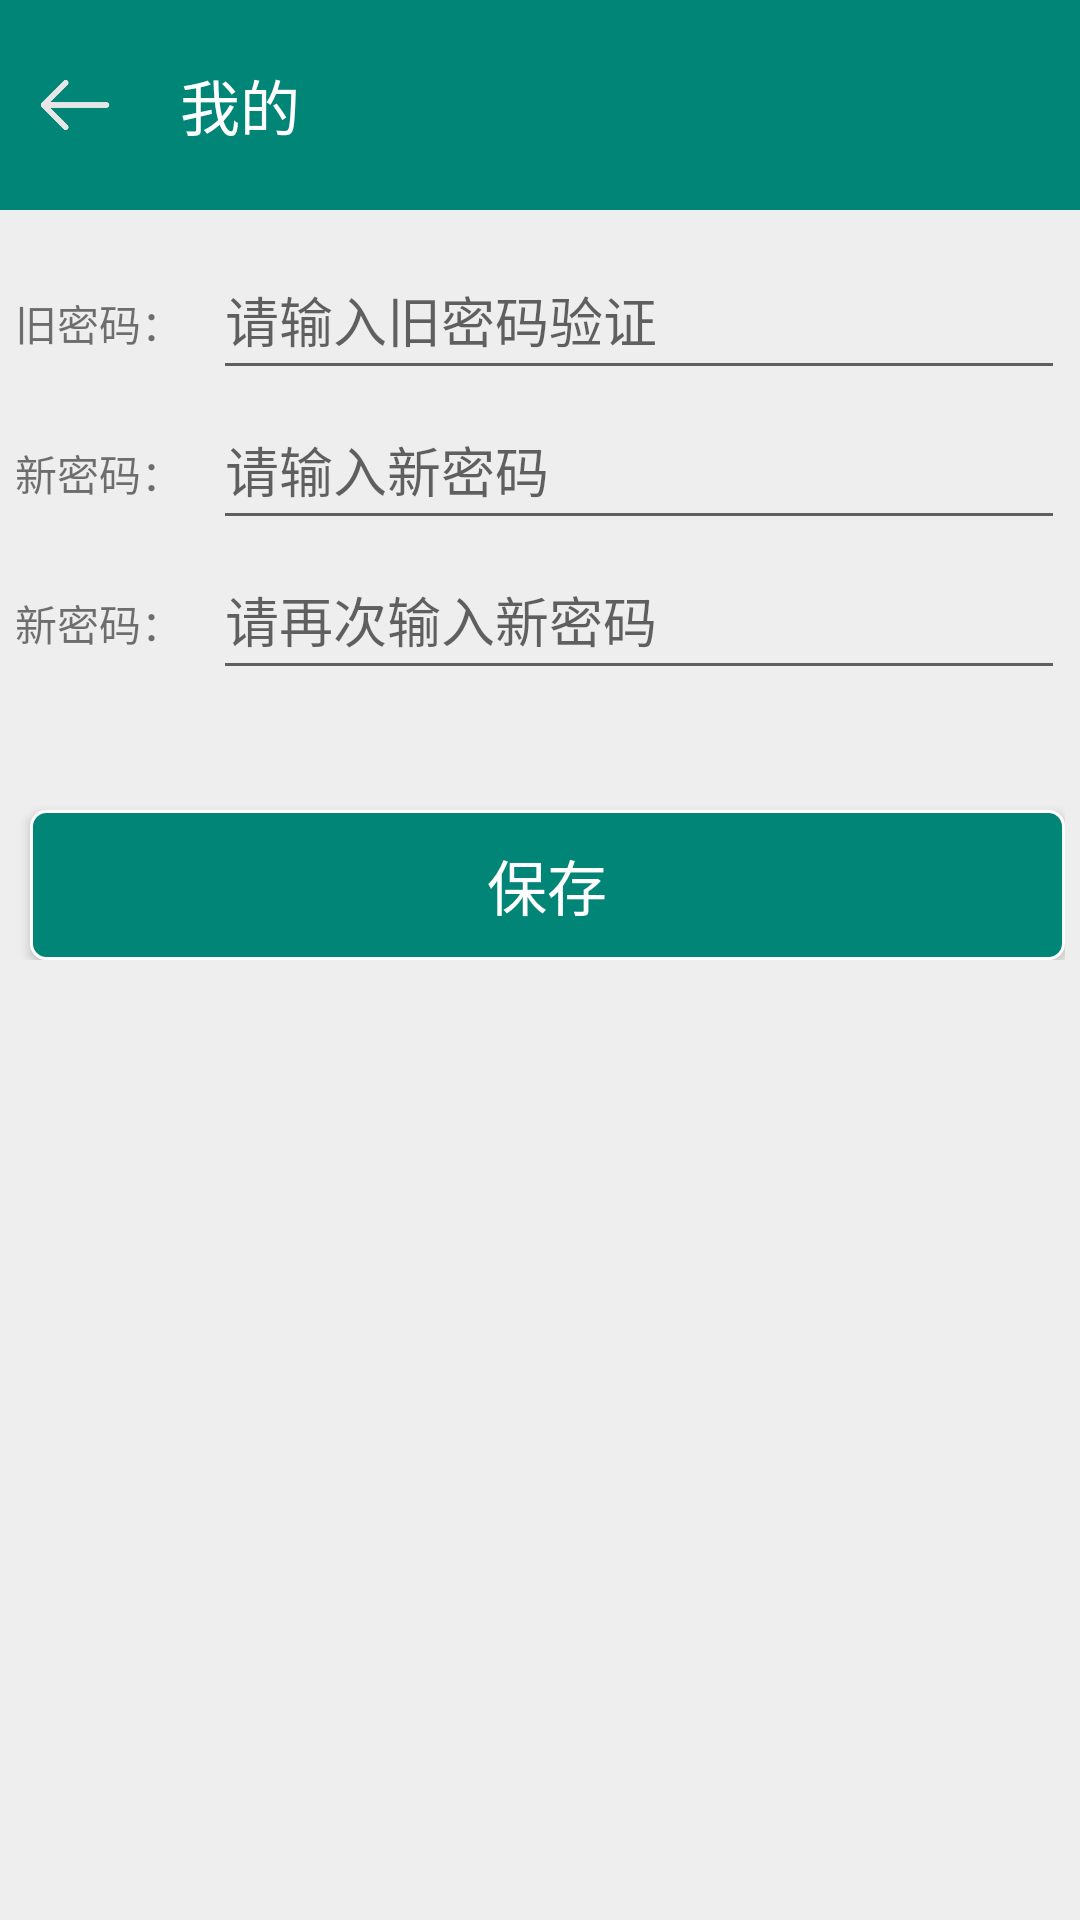

Screen size 1080w x 1920h. Icon name, then its center in pixels as (x,y):
back: (75,105)
